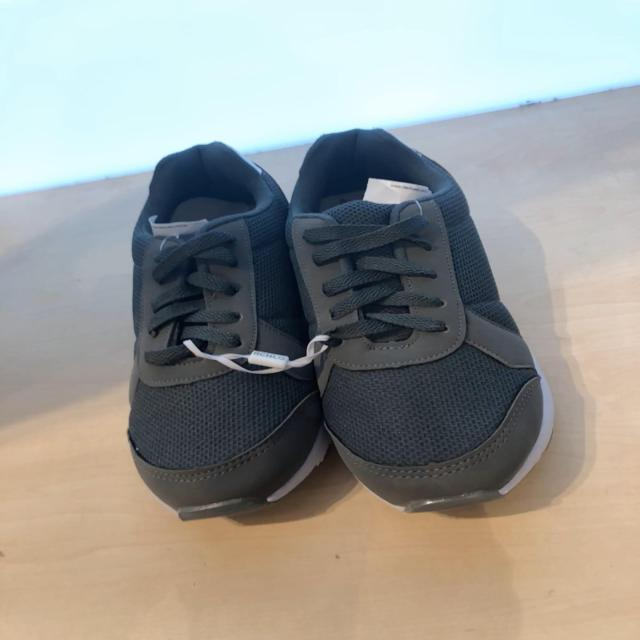shoe: (290, 126, 553, 503), (126, 141, 321, 519)
